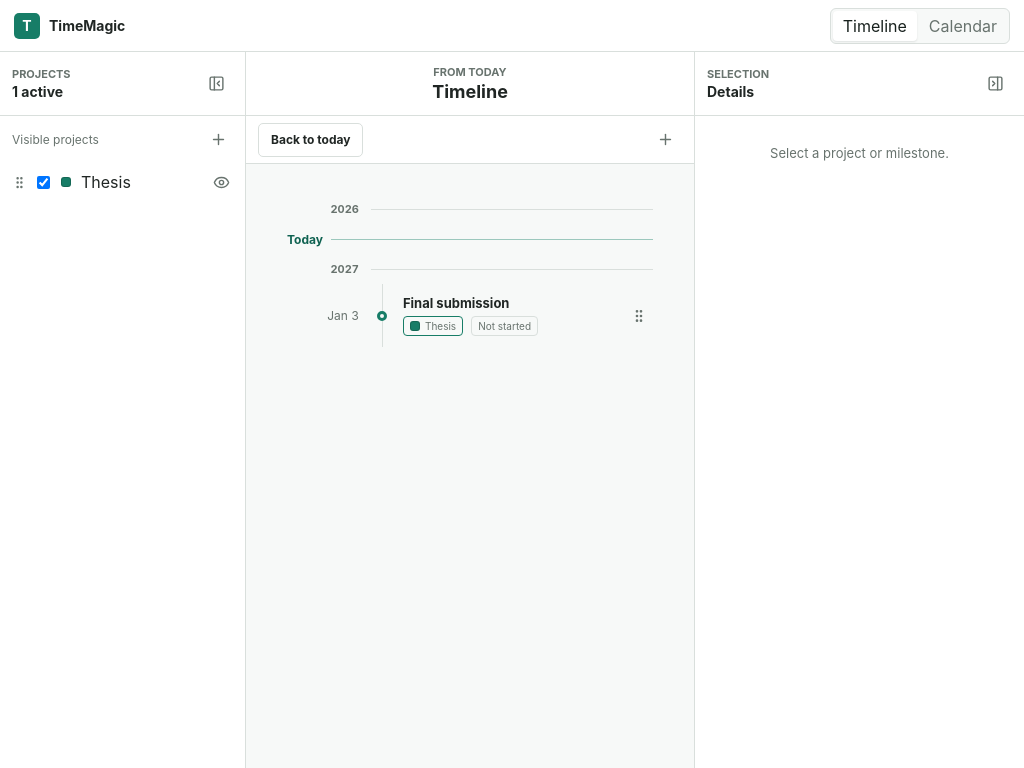
Test: App › clears the selected milestone after deleting it
What coordinates should you click on to do the following:
click the button with aria-label "Open Final submission"
I would click on:
 (509, 316)
Its box is [393,287,625,344].
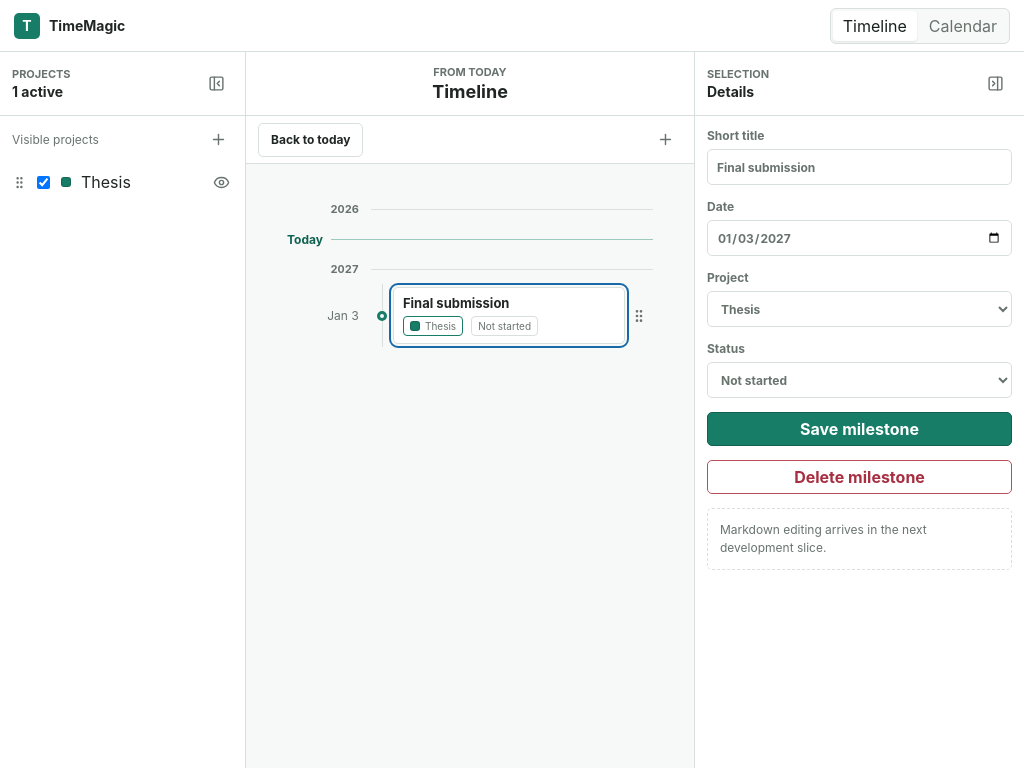
What coordinates should you click on to do the following:
click the button "Delete milestone"
I would click on:
 (860, 477)
Its box is [707,460,1012,494].
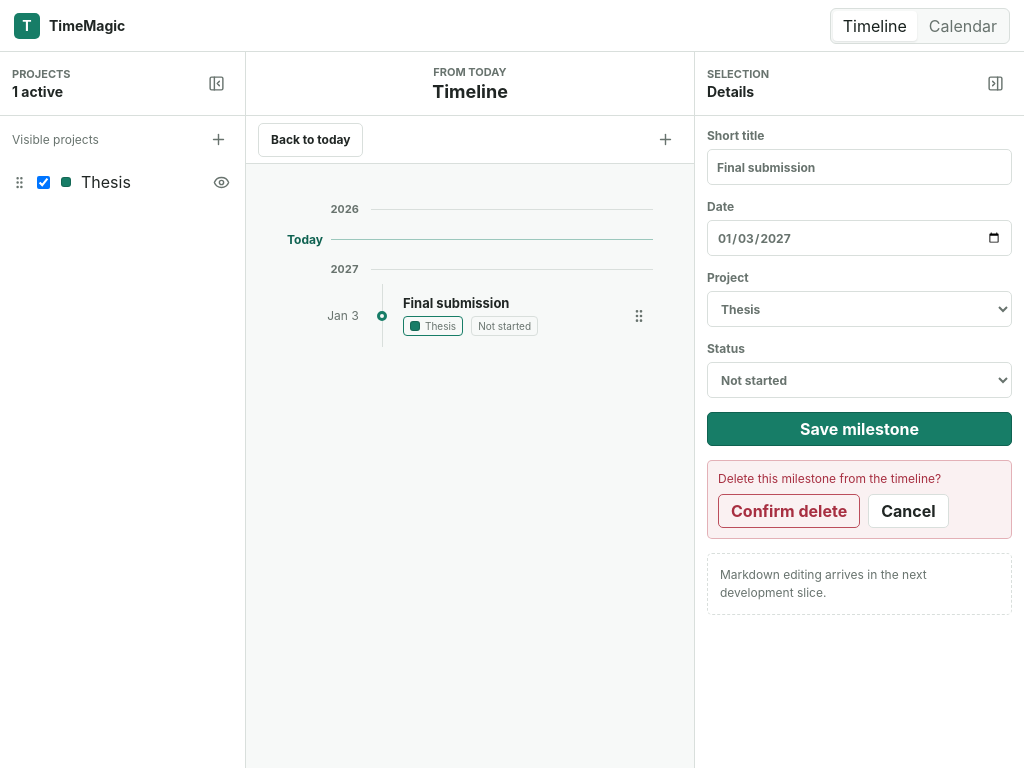
What coordinates should you click on to do the following:
click the button "Confirm delete"
I would click on:
 (789, 511)
Its box is [718,494,860,528].
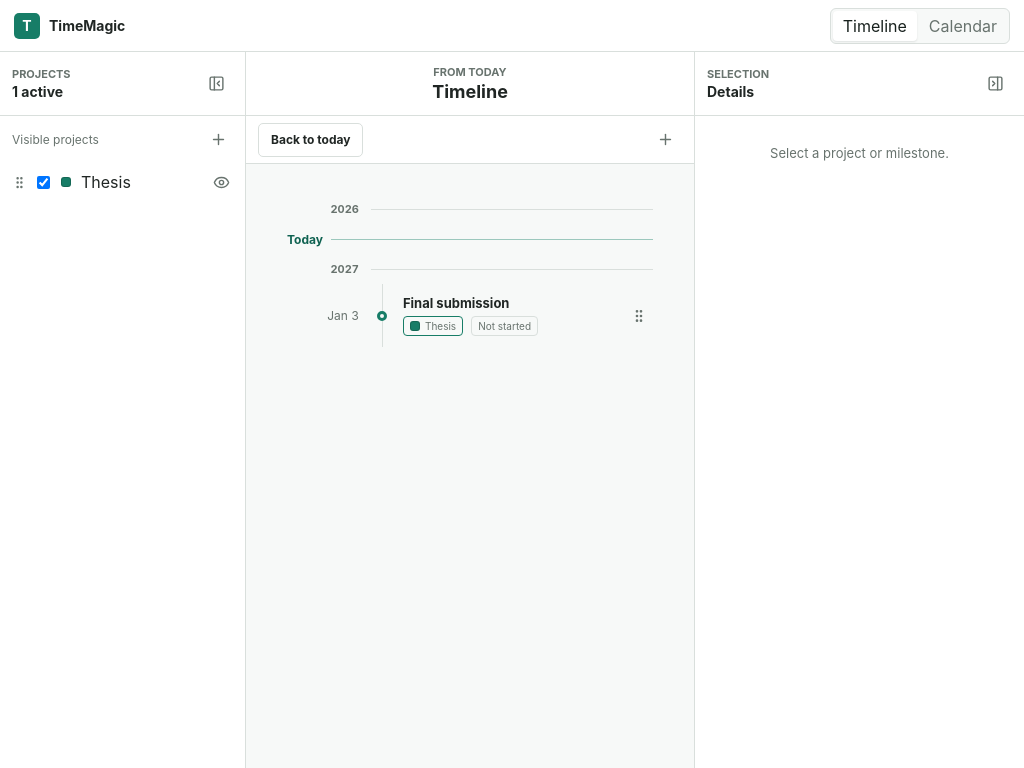
Expected: the text "Select a project or milestone." is shown, [770,144,949,164]
